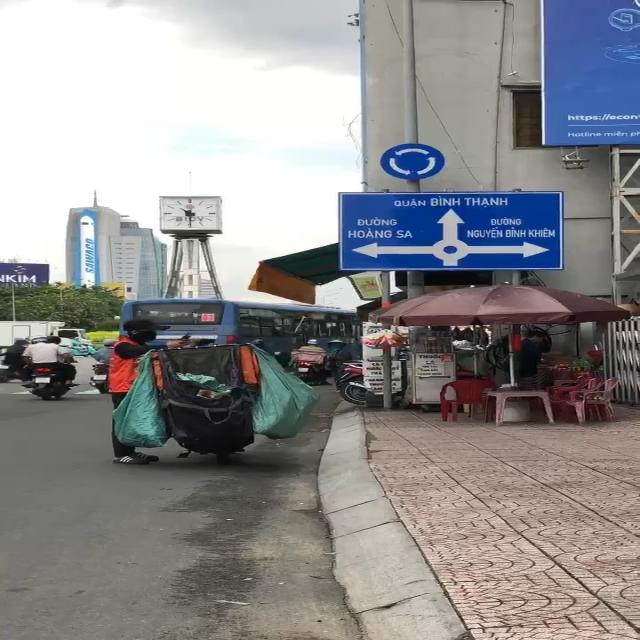Bien bao noi giao nhau chay theo vong xuyen: (377, 138, 456, 181)
